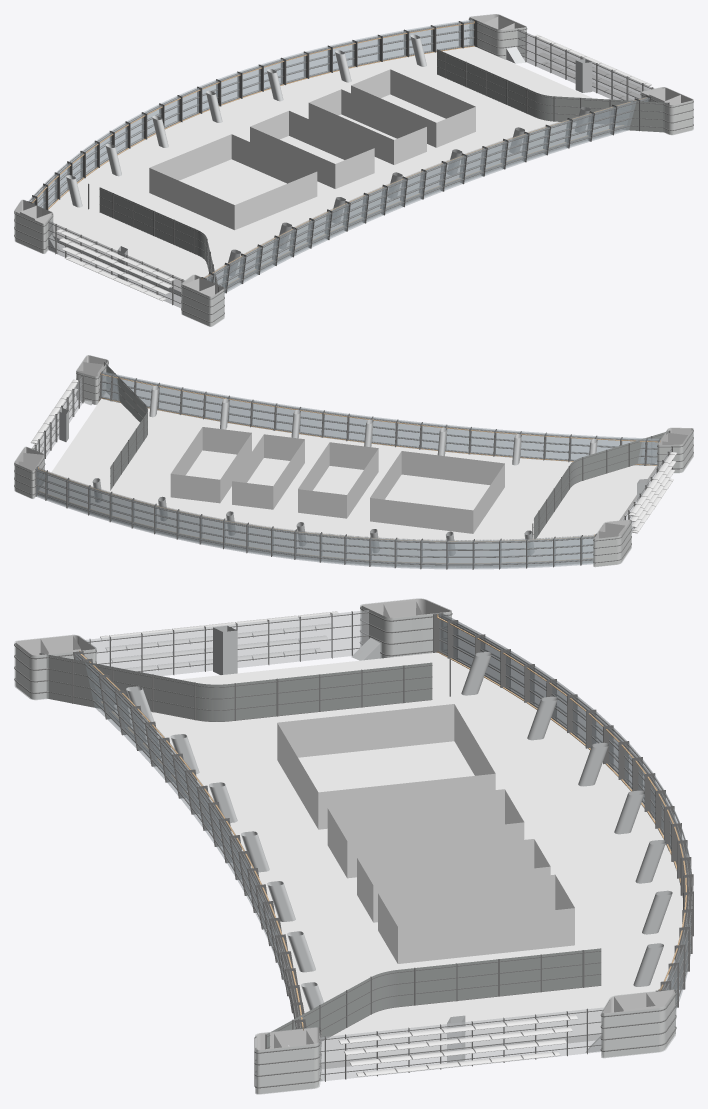
3 renders of one model, top to bottom at view 1: azimuth 30°, elevation 25°; view 2: azimuth 150°, elevation 25°; view 3: azimuth 270°, elevation 25°, orthographic. The views are drawn at different scales.
Parts seen in each view (by area): view 1: floor.027; view 2: floor.027; view 3: floor.027.
Boxes of the visible parts, x1,y1,x2,y2 form: floor.027: (14, 14, 693, 326); floor.027: (14, 355, 693, 569); floor.027: (14, 598, 693, 1094).
Bounding box in the file's own units: 81.95 × 3.74 × 52.03.
Materials: 14 (1 with a texture image).
